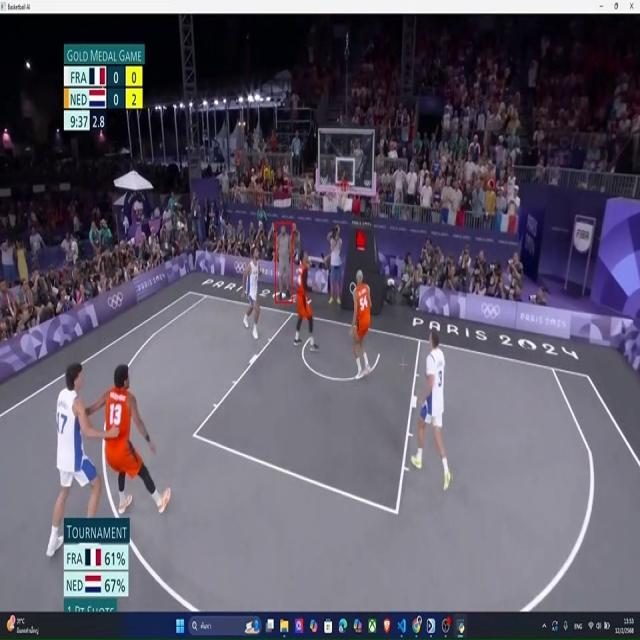hoop: (334, 178, 348, 212)
